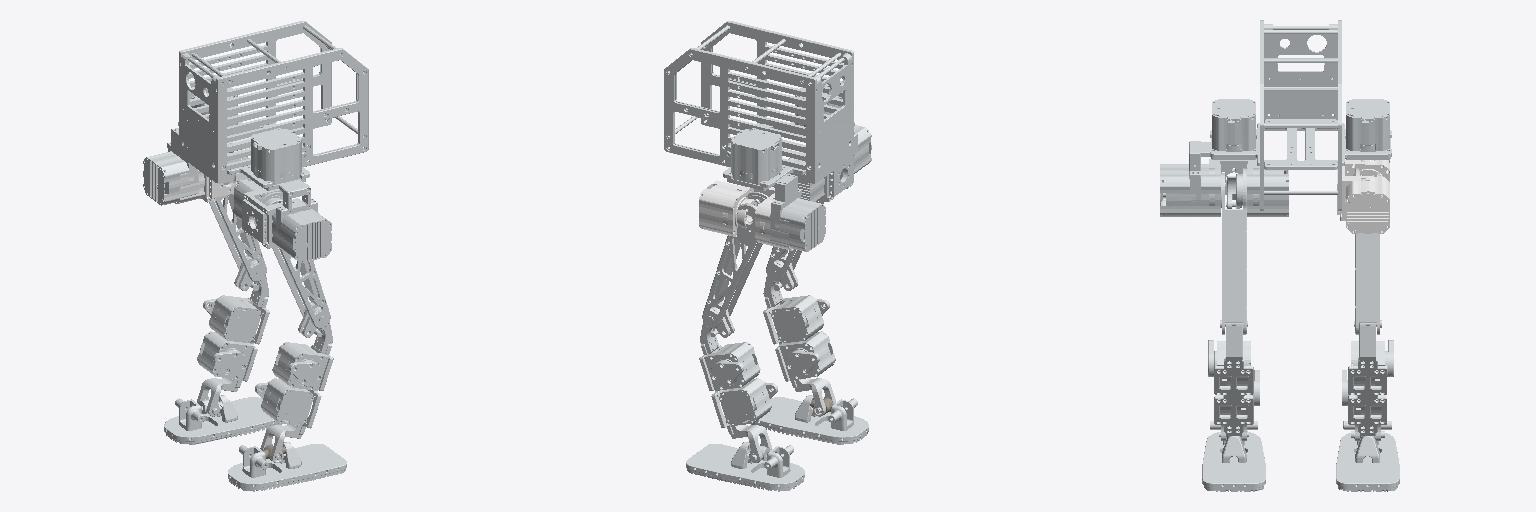
The robot description file, URDF, robot "pai_12dof_0911":
<?xml version="1.0" encoding="utf-8"?>
<!--
This URDF was automatically created by SolidWorks to URDF Exporter! Originally created by [author] ([email redacted])
Commit Version: 1.6.0-4-g7f85cfe  Build Version: 1.6.7995.38578
For more information, please see http://wiki.ros.org/sw_urdf_exporter
-->
<robot name="pai_12dof_0911">
	<mujoco>
		<compiler meshdir="../meshes/" balanceinertia="true" discardvisual="false" />
	</mujoco>
	<link name="base_link">
		<inertial>
			<origin xyz="0.00431563 0.00011969 0.07060951" rpy="0 0 0" />
			<mass value="2.47789918" />
			<inertia ixx="0.00983126" ixy="-2.457E-05" ixz="-1.421E-05" iyy="0.0079505" iyz="-2.836E-05" izz="0.00758548" />
		</inertial>
		<visual>
			<origin xyz="0 0 0.0" rpy="0 0 0" />
			<geometry>
				<!-- <box size="0.1 0.1 0.1" /> -->
				<mesh filename="../meshes/base_link.STL" />
			</geometry>
			<material name="">
				<color rgba="0.89804 0.91765 0.92941 1" />
			</material>
		</visual>
		<collision>
			<origin xyz="0 0 0.08" rpy="0 0 0" />
			<geometry>
				<box size="0.1 0.1 0.1" />
				<!-- <mesh filename="../meshes/base_link.STL" /> -->
			</geometry>
		</collision>
	</link>
	<link name="r_hip_yaw_link">
		<inertial>
			<origin xyz="-0.05213112 0.00012202 -0.05273544" rpy="0 0 0" />
			<mass value="0.34953789" />
			<inertia ixx="0.00022813" ixy="4.5E-07" ixz="-5.884E-05" iyy="0.00025249" iyz="-5.3E-07" izz="0.00016829" />
		</inertial>
		<visual>
			<origin xyz="0 0 0" rpy="0 0 0" />
			<geometry>
				<mesh filename="../meshes/r_hip_yaw_link.STL" />
			</geometry>
			<material name="">
				<color rgba="0.89804 0.91765 0.92941 1" />
			</material>
		</visual>
		<collision>
			<origin xyz="0 0 0" rpy="0 0 0" />
			<geometry>
				<box size="0.03 0.03 0.03" />
				<!-- <mesh filename="../meshes/r_hip_yaw_link.STL" /> -->
			</geometry>
		</collision>
	</link>
	<joint name="r_hip_yaw_joint" type="revolute">
		<origin xyz="0 -0.075 0" rpy="0 0 0" />
		<parent link="base_link" />
		<child link="r_hip_yaw_link" />
		<axis xyz="0 0 1" />
		<limit lower="-0.8" upper="0.8" effort="21" velocity="21" />
	</joint>
	<link name="r_hip_roll_link">
		<inertial>
			<origin xyz="-0.00214086 0.00022682 -0.00016674" rpy="0 0 0" />
			<mass value="0.67430799" />
			<inertia ixx="0.00098969" ixy="-4.2E-07" ixz="4.2E-07" iyy="0.00031647" iyz="-3.61E-06" izz="0.00101632" />
		</inertial>
		<visual>
			<origin xyz="0 0 0" rpy="0 0 0" />
			<geometry>
				<mesh filename="../meshes/r_hip_roll_link.STL" />
			</geometry>
			<material name="">
				<color rgba="0.89804 0.91765 0.92941 1" />
			</material>
		</visual>
		<collision>
			<origin xyz="-0.05 0 0" rpy="0 0 0" />
			<geometry>
				<box size="0.03 0.03 0.03" />
				<!-- <mesh filename="../meshes/r_hip_roll_link.STL" /> -->
			</geometry>
		</collision>
	</link>
	<joint name="r_hip_roll_joint" type="revolute">
		<origin xyz="0 0 -0.059" rpy="0 0 0" />
		<parent link="r_hip_yaw_link" />
		<child link="r_hip_roll_link" />
		<axis xyz="1 0 0" />
		<limit lower="-0.5" upper="0.157" effort="21" velocity="21" />
	</joint>
	<link name="r_thigh_link">
		<inertial>
			<origin xyz="0.00297238 -0.00090907 -0.08046401" rpy="0 0 0" />
			<mass value="0.11782962" />
			<inertia ixx="0.00033866" ixy="-3.1E-07" ixz="-4.47E-06" iyy="0.00033903" iyz="7.6E-06" izz="2.542E-05" />
		</inertial>
		<visual>
			<origin xyz="0 0 0" rpy="0 0 0" />
			<geometry>
				<mesh filename="../meshes/r_thigh_link.STL" />
			</geometry>
			<material name="">
				<color rgba="0.89804 0.91765 0.92941 1" />
			</material>
		</visual>
		<collision>
			<origin xyz="0 0 -0.07" rpy="0 0 0" />
			<geometry>
				<box size="0.03 0.03 0.10" />
				<!-- <mesh filename="../meshes/r_thigh_link.STL" /> -->
			</geometry>
		</collision>
	</link>
	<joint name="r_thigh_joint" type="revolute">
		<origin xyz="0 0 0" rpy="0 -0.35 0" />
		<parent link="r_hip_roll_link" />
		<child link="r_thigh_link" />
		<axis xyz="0 1 0" />
		<limit lower="-1.2" upper="0.6" effort="21" velocity="21" />
	</joint>
	<link name="r_calf_link">
		<inertial>
			<origin xyz="0.00199394 0 -0.08688477" rpy="0 0 0" />
			<mass value="0.53090962" />
			<inertia ixx="0.00070182" ixy="1E-08" ixz="-8.98E-06" iyy="0.00072293" iyz="4.927E-05" izz="0.00018922" />
		</inertial>
		<visual>
			<origin xyz="0 0 0" rpy="0 0 0" />
			<geometry>
				<mesh filename="../meshes/r_calf_link.STL" />
			</geometry>
			<material name="">
				<color rgba="0.89804 0.91765 0.92941 1" />
			</material>
		</visual>
		<collision>
			<origin xyz="0 0 -0.08" rpy="0 0 0" />
			<geometry>
				<box size="0.04 0.04 0.10" />
				<!-- <mesh filename="../meshes/r_calf_link.STL" /> -->
			</geometry>
		</collision>
	</link>
	<joint name="r_calf_joint" type="revolute">
		<origin xyz="0 0 -0.15" rpy="0 0.7 0" />
		<parent link="r_thigh_link" />
		<child link="r_calf_link" />
		<axis xyz="0 1 0" />
		<limit lower="-0.7" upper="1.6" effort="21" velocity="21" />
	</joint>
	<link name="r_ankle_pitch_link">
		<inertial>
			<origin xyz="0 0 0" rpy="0 0 0" />
			<mass value="0.01158437" />
			<inertia ixx="4.5E-07" ixy="0" ixz="0" iyy="1.12E-06" iyz="0" izz="1.21E-06" />
		</inertial>
		<visual>
			<origin xyz="0 0 0" rpy="0 0 0" />
			<geometry>
				<mesh filename="../meshes/r_ankle_pitch_link.STL" />
			</geometry>
			<material name="">
				<color rgba="0.65098 0.61961 0.58824 1" />
			</material>
		</visual>
		<collision>
			<origin xyz="0 0 0" rpy="0 0 0" />
			<geometry>
				<mesh filename="../meshes/r_ankle_pitch_link.STL" />
			</geometry>
		</collision>
	</link>
	<joint name="r_ankle_pitch_joint" type="revolute">
		<origin xyz="0 0 -0.17545" rpy="0 -0.35 0" />
		<parent link="r_calf_link" />
		<child link="r_ankle_pitch_link" />
		<axis xyz="0 1 0" />
		<limit lower="-0.3" upper="0.85" effort="21" velocity="21" />
	</joint>
	<link name="r_ankle_roll_link">
		<inertial>
			<origin xyz="0.016631 -2.06E-06 -0.021104" rpy="0 0 0" />
			<mass value="0.26606" />
			<inertia ixx="0.00010328" ixy="-1E-08" ixz="2.208E-05" iyy="0.00039542" iyz="2E-08" izz="0.00045941" />
		</inertial>
		<visual>
			<origin xyz="0 0 0" rpy="0 0 0" />
			<geometry>
				<mesh filename="../meshes/r_ankle_roll_link.STL" />
			</geometry>
			<material name="">
				<color rgba="0.89804 0.91765 0.92941 1" />
			</material>
		</visual>
		<collision>
			<origin xyz="0 0 0" rpy="0 0 0" />
			<geometry>
				<mesh filename="../meshes/r_ankle_roll_link.STL" />
			</geometry>
		</collision>
	</link>
	<joint name="r_ankle_roll_joint" type="revolute">
		<origin xyz="0 0 0" rpy="0 0 0" />
		<parent link="r_ankle_pitch_link" />
		<child link="r_ankle_roll_link" />
		<axis xyz="1 0 0" />
		<limit lower="-0.25" upper="0.7" effort="21" velocity="21" />
	</joint>
	<link name="l_hip_yaw_link">
		<inertial>
			<origin xyz="-0.05287777 -6.958E-05 -0.05288161" rpy="0 0 0" />
			<mass value="0.34953789" />
			<inertia ixx="0.00023311" ixy="-2.6E-07" ixz="-5.987E-05" iyy="0.00025057" iyz="3.9E-07" izz="0.00016652" />
		</inertial>
		<visual>
			<origin xyz="0 0 0" rpy="0 0 0" />
			<geometry>
				<mesh filename="../meshes/l_hip_yaw_link.STL" />
			</geometry>
			<material name="">
				<color rgba="0.89804 0.91765 0.92941 1" />
			</material>
		</visual>
		<collision>
			<origin xyz="0 0 0" rpy="0 0 0" />
			<geometry>
				<box size="0.03 0.03 0.03" />
				<!-- <mesh filename="../meshes/l_hip_yaw_link.STL" /> -->
			</geometry>
		</collision>
	</link>
	<joint name="l_hip_yaw_joint" type="revolute">
		<origin xyz="0 0.075 0" rpy="0 0 0" />
		<parent link="base_link" />
		<child link="l_hip_yaw_link" />
		<axis xyz="0 0 1" />
		<limit lower="-0.8" upper="0.8" effort="21" velocity="21" />
	</joint>
	<link name="l_hip_roll_link">
		<inertial>
			<origin xyz="-0.00198932 -0.00022682 -0.00016674" rpy="0 0 0" />
			<mass value="0.67430799" />
			<inertia ixx="0.00101903" ixy="3.9E-07" ixz="4E-07" iyy="0.00032559" iyz="2.13E-06" izz="0.00104452" />
		</inertial>
		<visual>
			<origin xyz="0 0 0" rpy="0 0 0" />
			<geometry>
				<mesh filename="../meshes/l_hip_roll_link.STL" />
			</geometry>
			<material name="">
				<color rgba="1 1 1 1" />
			</material>
		</visual>
		<collision>
			<origin xyz="-0.05 0 0" rpy="0 0 0" />
			<geometry>
				<box size="0.03 0.03 0.03" />
				<!-- <mesh filename="../meshes/l_hip_roll_link.STL" /> -->
			</geometry>
		</collision>
	</link>
	<joint name="l_hip_roll_joint" type="revolute">
		<origin xyz="0 0 -0.059" rpy="0 0 0" />
		<parent link="l_hip_yaw_link" />
		<child link="l_hip_roll_link" />
		<axis xyz="1 0 0" />
		<limit lower="-0.157" upper="0.5" effort="21" velocity="21" />
	</joint>
	<link name="l_thigh_link">
		<inertial>
			<origin xyz="0.00290507 0.00062807 -0.07864192" rpy="0 0 0" />
			<mass value="0.12055967" />
			<inertia ixx="0.00035689" ixy="2.1E-07" ixz="-3.83E-06" iyy="0.0003574" iyz="-4.94E-06" izz="2.64E-05" />
		</inertial>
		<visual>
			<origin xyz="0 0 0" rpy="0 0 0" />
			<geometry>
				<mesh filename="../meshes/l_thigh_link.STL" />
			</geometry>
			<material name="">
				<color rgba="0.89804 0.91765 0.92941 1" />
			</material>
		</visual>
		<collision>
			<origin xyz="0 0 -0.07" rpy="0 0 0" />
			<geometry>
				<box size="0.03 0.03 0.10" />
				<!-- <mesh filename="../meshes/l_thigh_link.STL" /> -->
			</geometry>
		</collision>
	</link>
	<joint name="l_thigh_joint" type="revolute">
		<origin xyz="0 0 0" rpy="0 -0.35 0" />
		<parent link="l_hip_roll_link" />
		<child link="l_thigh_link" />
		<axis xyz="0 1 0" />
		<limit lower="-1.2" upper="0.6" effort="21" velocity="21" />
	</joint>
	<link name="l_calf_link">
		<inertial>
			<origin xyz="0.00199394 0 -0.08688477" rpy="0 0 0" />
			<mass value="0.5309096" />
			<inertia ixx="0.00066601" ixy="-1E-08" ixz="-9.12E-06" iyy="0.00068609" iyz="-4.268E-05" izz="0.00015353" />
		</inertial>
		<visual>
			<origin xyz="0 0 0" rpy="0 0 0" />
			<geometry>
				<mesh filename="../meshes/l_calf_link.STL" />
			</geometry>
			<material name="">
				<color rgba="0.89804 0.91765 0.92941 1" />
			</material>
		</visual>
		<collision>
			<origin xyz="0 0 -0.08" rpy="0 0 0" />
			<geometry>
				<box size="0.04 0.04 0.10" />
				<!-- <mesh filename="../meshes/l_calf_link.STL" /> -->
			</geometry>
		</collision>
	</link>
	<joint name="l_calf_joint" type="revolute">
		<origin xyz="0 0 -0.15" rpy="0 0.7 0" />
		<parent link="l_thigh_link" />
		<child link="l_calf_link" />
		<axis xyz="0 1 0" />
		<limit lower="-0.7" upper="1.6" effort="21" velocity="21" />
	</joint>
	<link name="l_ankle_pitch_link">
		<inertial>
			<origin xyz="0 0 0" rpy="0 0 0" />
			<mass value="0.01158437" />
			<inertia ixx="4.5E-07" ixy="0" ixz="0" iyy="1.12E-06" iyz="0" izz="1.21E-06" />
		</inertial>
		<visual>
			<origin xyz="0 0 0" rpy="0 0 0" />
			<geometry>
				<mesh filename="../meshes/l_ankle_pitch_link.STL" />
			</geometry>
			<material name="">
				<color rgba="0.89804 0.91765 0.92941 1" />
			</material>
		</visual>
		<collision>
			<origin xyz="0 0 0" rpy="0 0 0" />
			<geometry>
				<mesh filename="../meshes/l_ankle_pitch_link.STL" />
			</geometry>
		</collision>
	</link>
	<joint name="l_ankle_pitch_joint" type="revolute">
		<origin xyz="0 0 -0.17545" rpy="0 -0.35 0" />
		<parent link="l_calf_link" />
		<child link="l_ankle_pitch_link" />
		<axis xyz="0 1 0" />
		<limit lower="-0.3" upper="0.85" effort="21" velocity="21" />
	</joint>
	<link name="l_ankle_roll_link">
		<inertial>
			<origin xyz="0.016631 -2.06E-06 -0.021104" rpy="0 0 0" />
			<mass value="0.26319" />
			<inertia ixx="0.00010189" ixy="0" ixz="2E-05" iyy="0.00039075" iyz="-2E-08" izz="0.00045603" />
		</inertial>
		<visual>
			<origin xyz="0 0 0" rpy="0 0 0" />
			<geometry>
				<mesh filename="../meshes/l_ankle_roll_link.STL" />
			</geometry>
			<material name="">
				<color rgba="0.89804 0.91765 0.92941 1" />
			</material>
		</visual>
		<collision>
			<origin xyz="0 0 0" rpy="0 0 0" />
			<geometry>
				<mesh filename="../meshes/l_ankle_roll_link.STL" />
			</geometry>
		</collision>
	</link>
	<joint name="l_ankle_roll_joint" type="revolute">
		<origin xyz="0 0 0" rpy="0 0 0" />
		<parent link="l_ankle_pitch_link" />
		<child link="l_ankle_roll_link" />
		<axis xyz="1 0 0" />
		<limit lower="-0.7" upper="0.25" effort="21" velocity="21" />
	</joint>
</robot>

--- Facts derived from the render (not from the file) ---
3 views of the same robot in one strip: view 1: azimuth 30°, elevation 25°; view 2: azimuth 150°, elevation 25°; view 3: azimuth 270°, elevation 25° (orthographic).
Model pai_12dof_0911 with 13 links and 12 joints (12 revolute), rooted at base_link, posed all joints at 0.
Links seen in each view (by area): view 1: base_link, r_calf_link, l_calf_link, r_ankle_roll_link, l_ankle_roll_link, r_hip_yaw_link, r_hip_roll_link, l_hip_yaw_link, r_thigh_link, l_thigh_link, l_hip_roll_link; view 2: base_link, r_calf_link, l_calf_link, l_ankle_roll_link, r_ankle_roll_link, l_hip_roll_link, l_thigh_link, l_hip_yaw_link, r_hip_roll_link, r_thigh_link, r_hip_yaw_link; view 3: base_link, r_calf_link, l_calf_link, r_hip_roll_link, r_ankle_roll_link, l_ankle_roll_link, l_hip_roll_link, r_thigh_link, l_thigh_link, r_hip_yaw_link.
Link boxes in pixels (x1=…): base_link: x1=178, y1=21, x2=368, y2=190; r_calf_link: x1=255, y1=303, x2=333, y2=462; l_calf_link: x1=197, y1=257, x2=269, y2=416; r_ankle_roll_link: x1=228, y1=442, x2=346, y2=491; l_ankle_roll_link: x1=164, y1=395, x2=281, y2=444; r_hip_yaw_link: x1=275, y1=180, x2=331, y2=262; r_hip_roll_link: x1=234, y1=178, x2=314, y2=252; l_hip_yaw_link: x1=143, y1=128, x2=198, y2=205; r_thigh_link: x1=255, y1=192, x2=330, y2=336; l_thigh_link: x1=209, y1=153, x2=266, y2=290; l_hip_roll_link: x1=175, y1=137, x2=250, y2=203; base_link: x1=664, y1=21, x2=854, y2=190; r_calf_link: x1=763, y1=257, x2=835, y2=416; l_calf_link: x1=699, y1=303, x2=777, y2=462; l_ankle_roll_link: x1=686, y1=442, x2=804, y2=491; r_ankle_roll_link: x1=751, y1=395, x2=868, y2=444; l_hip_roll_link: x1=699, y1=180, x2=793, y2=250; l_thigh_link: x1=702, y1=192, x2=767, y2=336; l_hip_yaw_link: x1=770, y1=174, x2=825, y2=251; r_hip_roll_link: x1=774, y1=136, x2=862, y2=201; r_thigh_link: x1=766, y1=200, x2=824, y2=290; r_hip_yaw_link: x1=854, y1=125, x2=871, y2=173; base_link: x1=1210, y1=20, x2=1391, y2=210; r_calf_link: x1=1208, y1=323, x2=1259, y2=440; l_calf_link: x1=1342, y1=323, x2=1393, y2=440; r_hip_roll_link: x1=1179, y1=159, x2=1288, y2=216; r_ankle_roll_link: x1=1202, y1=421, x2=1265, y2=491; l_ankle_roll_link: x1=1336, y1=421, x2=1399, y2=491; l_hip_roll_link: x1=1337, y1=160, x2=1389, y2=233; r_thigh_link: x1=1220, y1=168, x2=1247, y2=334; l_thigh_link: x1=1354, y1=168, x2=1381, y2=334; r_hip_yaw_link: x1=1160, y1=141, x2=1211, y2=216.
Bounding box of the posed robot: 0.2219 × 0.268 × 0.5167 m (x, y, z).
Meshes: 13 distinct files referenced, 13 mesh visuals loaded (13 binary STL).